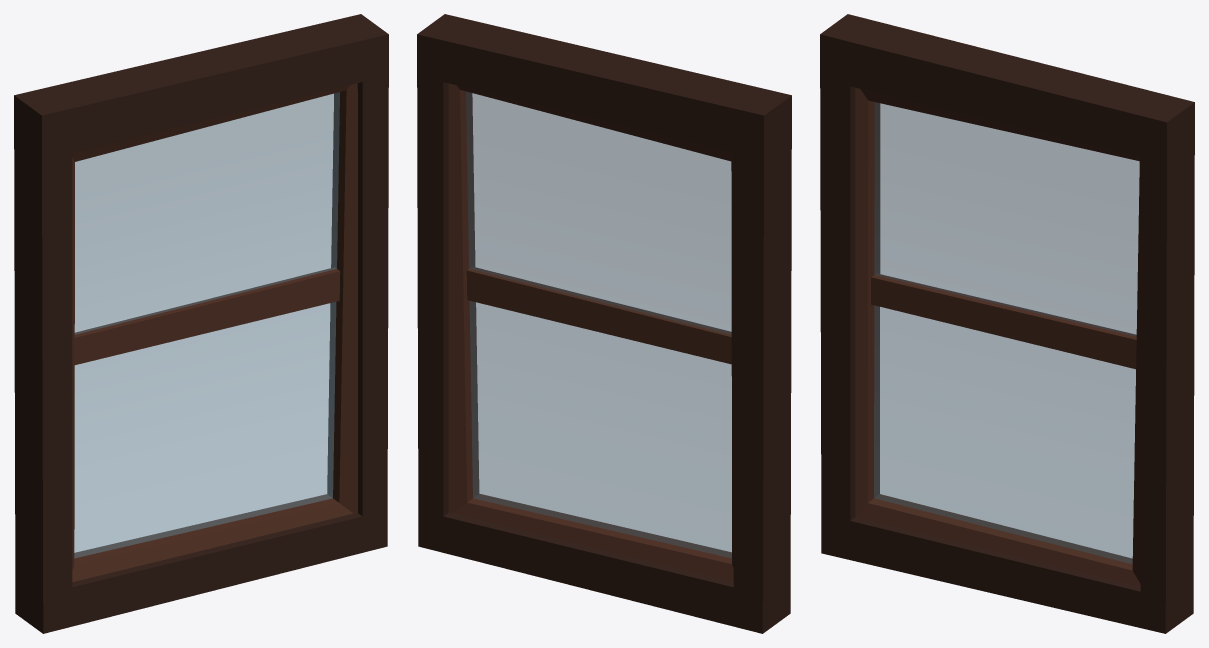
The model's file is Window 1x2 Closed.glb.
3 views of the same model, side by side, from view 1: azimuth 30°, elevation 25°; view 2: azimuth 150°, elevation 25°; view 3: azimuth 330°, elevation 25° (orthographic).
Visible parts, largest first — view 1: Window 1x2 Closed; view 2: Window 1x2 Closed; view 3: Window 1x2 Closed.
Boxes of the visible parts, x1,y1,x2,y2 form: Window 1x2 Closed: (14, 14, 388, 633); Window 1x2 Closed: (417, 14, 791, 633); Window 1x2 Closed: (820, 14, 1194, 633).
Size of the model in its own units: 1.15 by 1.65 by 0.16.
Materials: 2 (2 with a texture image).
